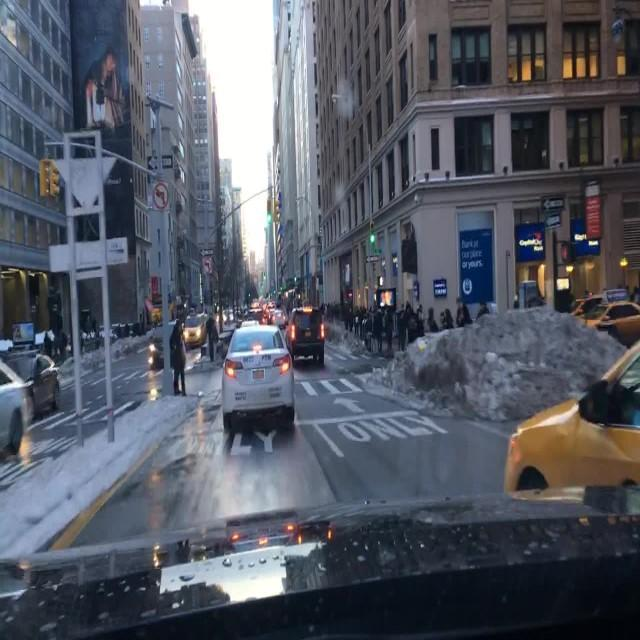normal: (140, 293, 404, 449)
